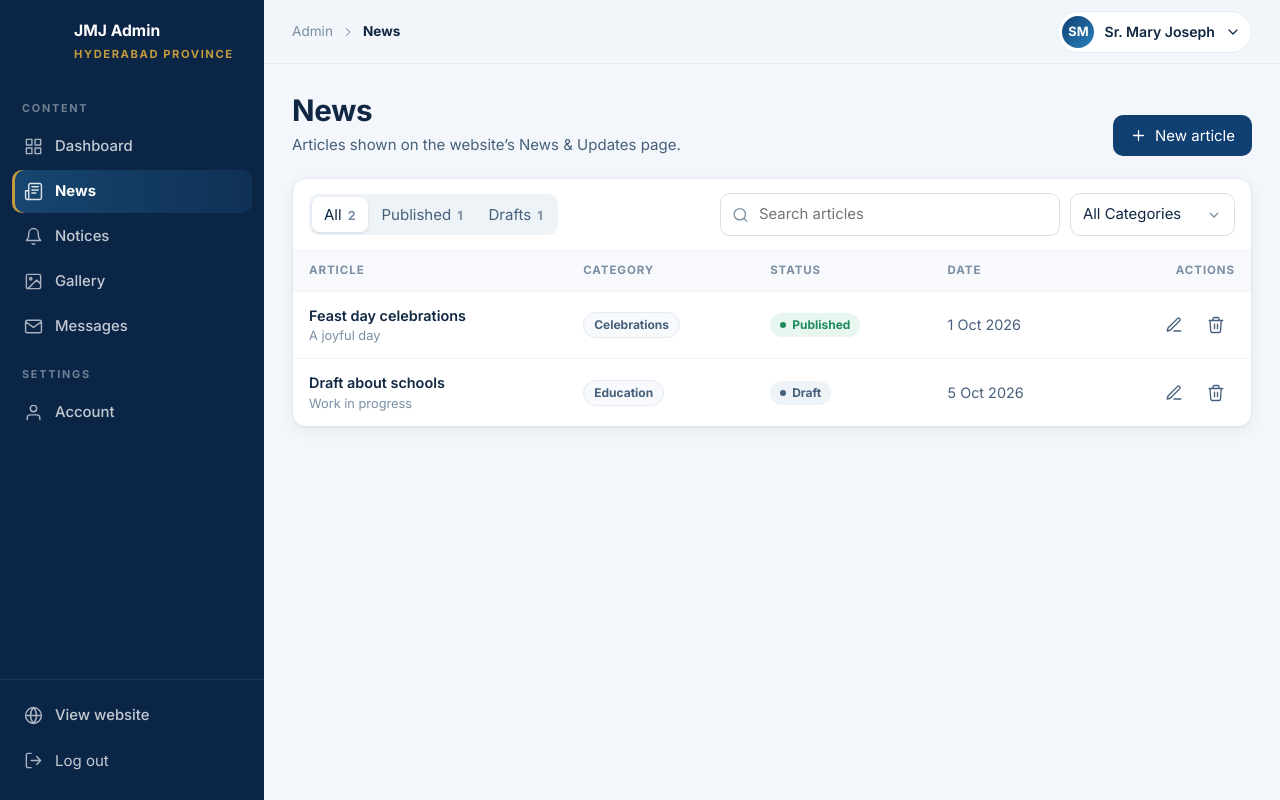
Scenario: Admin area › asks for confirmation before deleting
Click the button named "delete feast day celebrations": click(1216, 325) [1197,306,1235,344]
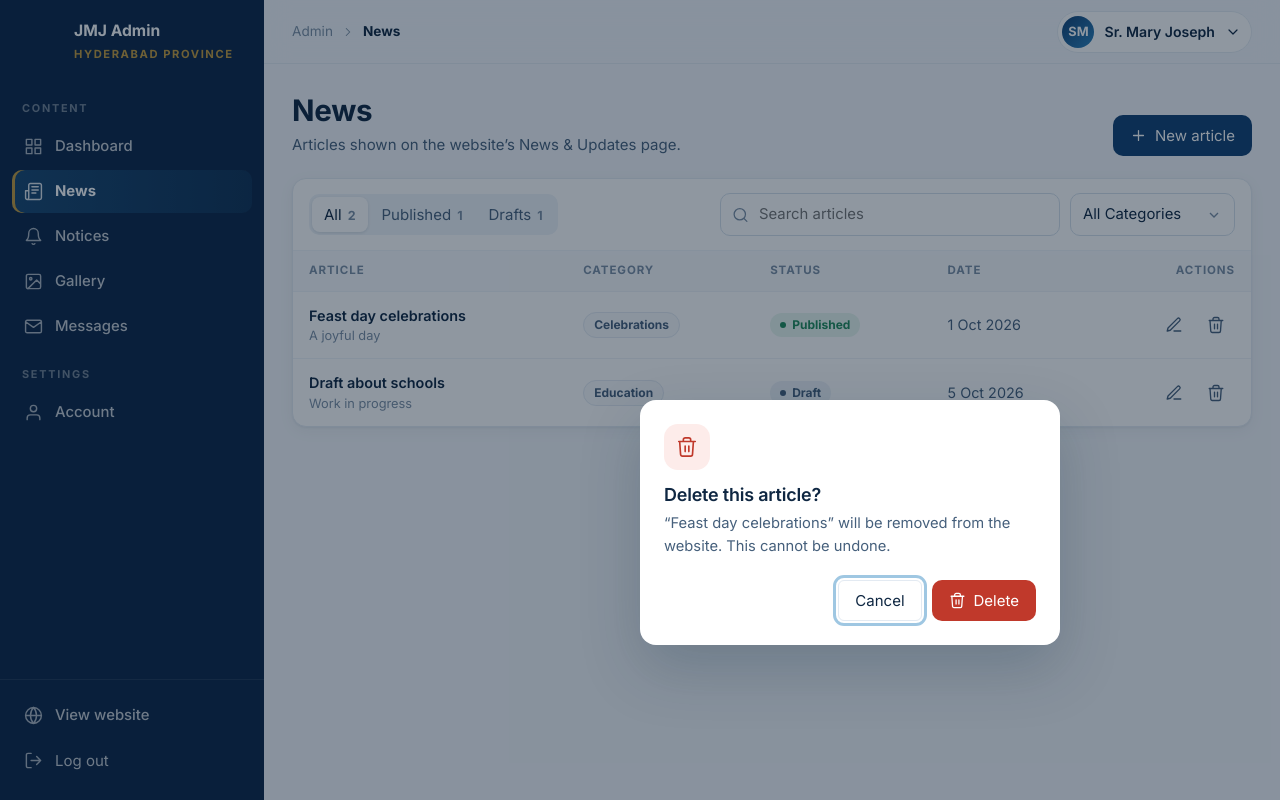
Click the button "Delete": click(984, 601) [932,580,1036,621]
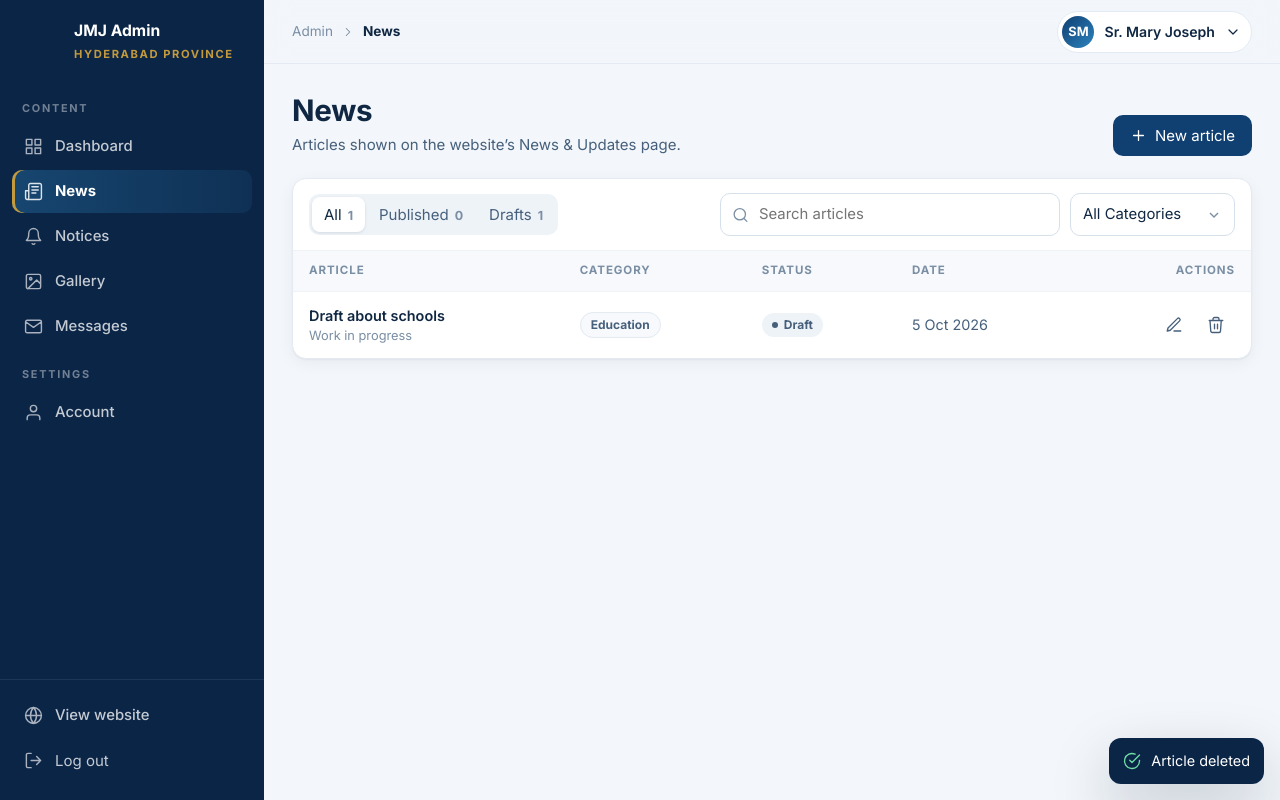
expect the text "Feast day celebrations" is not shown: met
